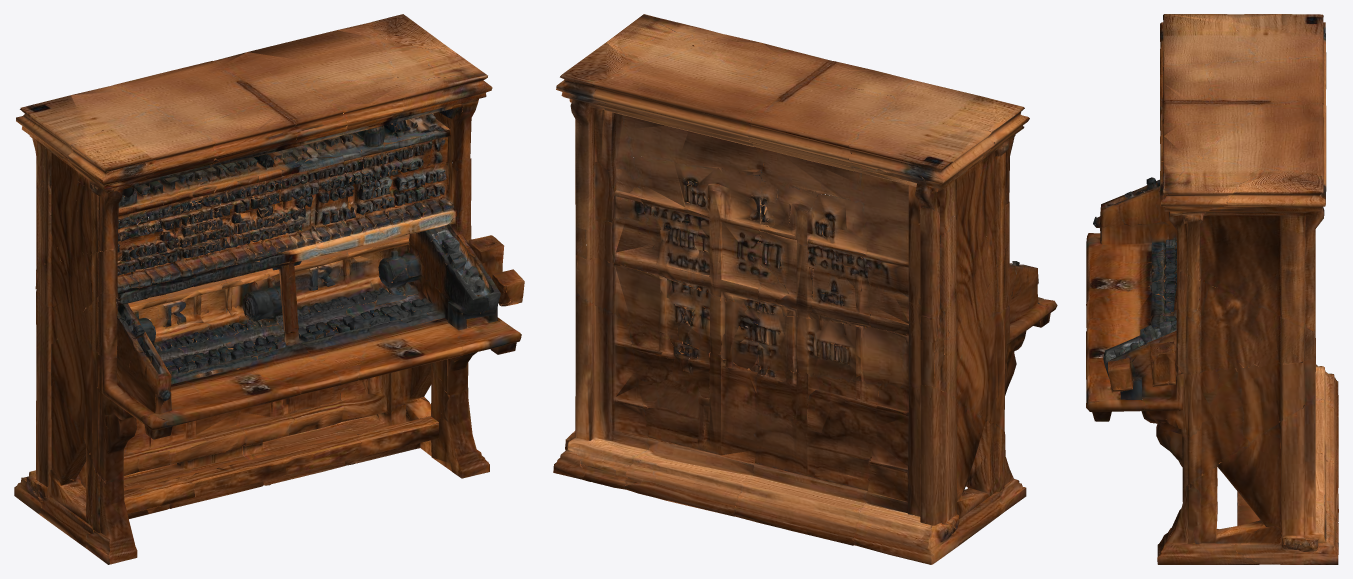
Rendered from type-cases.glb.
3 views of the same model, side by side, from view 1: azimuth 30°, elevation 25°; view 2: azimuth 150°, elevation 25°; view 3: azimuth 270°, elevation 25° (orthographic). The views are drawn at different scales.
Visible parts, largest first — view 1: Mesh_0; view 2: Mesh_0; view 3: Mesh_0.
Part boxes in pixels (box(x1,y1,x2,y2)): Mesh_0: box(14, 14, 524, 564); Mesh_0: box(553, 14, 1057, 564); Mesh_0: box(1086, 14, 1338, 564).
Bounding box in the file's own units: 1.9 × 1.81 × 1.1.
Materials: 1 (1 with a texture image).
